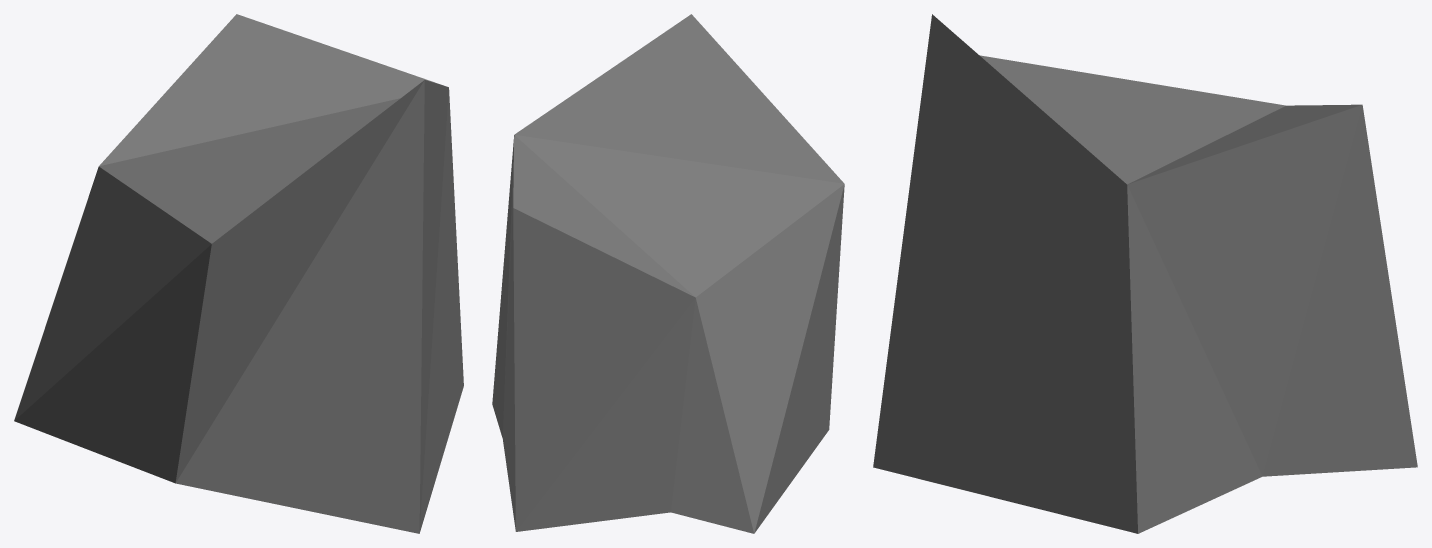
File: rock5.fbx
3 views of the same model, side by side, from view 1: azimuth 30°, elevation 25°; view 2: azimuth 150°, elevation 25°; view 3: azimuth 270°, elevation 25° (orthographic). The views are drawn at different scales.
Parts seen in each view (by area): view 1: Cylinder023; view 2: Cylinder023; view 3: Cylinder023.
Part boxes in pixels (left/top/right/bottom): Cylinder023: left=14, top=14, right=463, bottom=533; Cylinder023: left=492, top=14, right=844, bottom=533; Cylinder023: left=873, top=14, right=1417, bottom=533.
Size of the model in its own units: 83.59 by 91.25 by 95.74.
